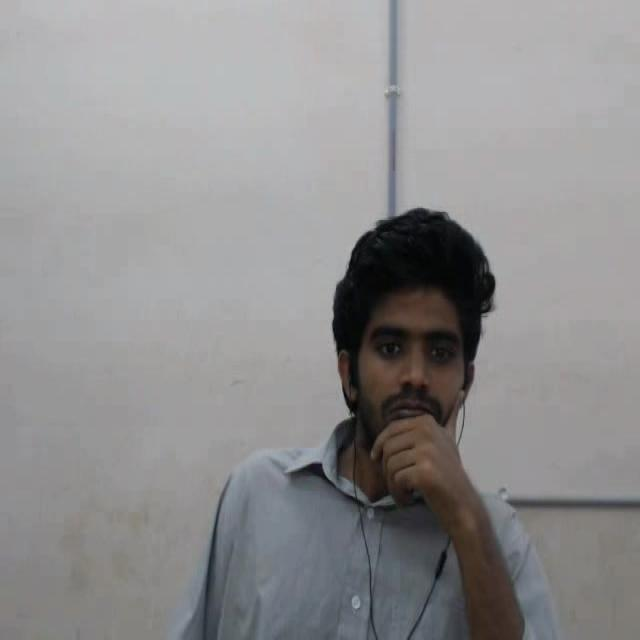Bored: (312, 200, 510, 496)
